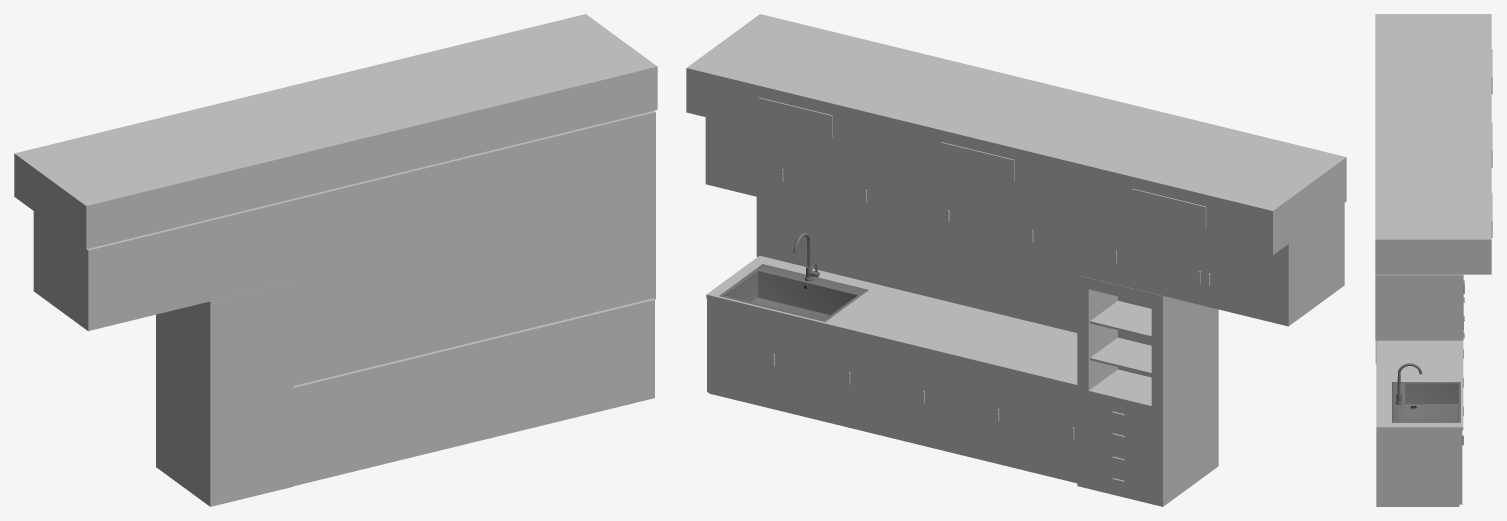
The model's file is kitchen cabinet.FBX.
The picture shows the model from 3 angles, left to right: view 1: azimuth 30°, elevation 25°; view 2: azimuth 150°, elevation 25°; view 3: azimuth 270°, elevation 25°; orthographic projection. The views are drawn at different scales.
Parts seen in each view (by area): view 1: kitchen cabinet; view 2: kitchen cabinet; view 3: kitchen cabinet.
Boxes of the visible parts, left/top/right/bottom form: kitchen cabinet: left=14, top=14, right=657, bottom=506; kitchen cabinet: left=686, top=14, right=1346, bottom=506; kitchen cabinet: left=1375, top=14, right=1492, bottom=506.
Size of the model in its own units: 190 by 41.66 by 105.
